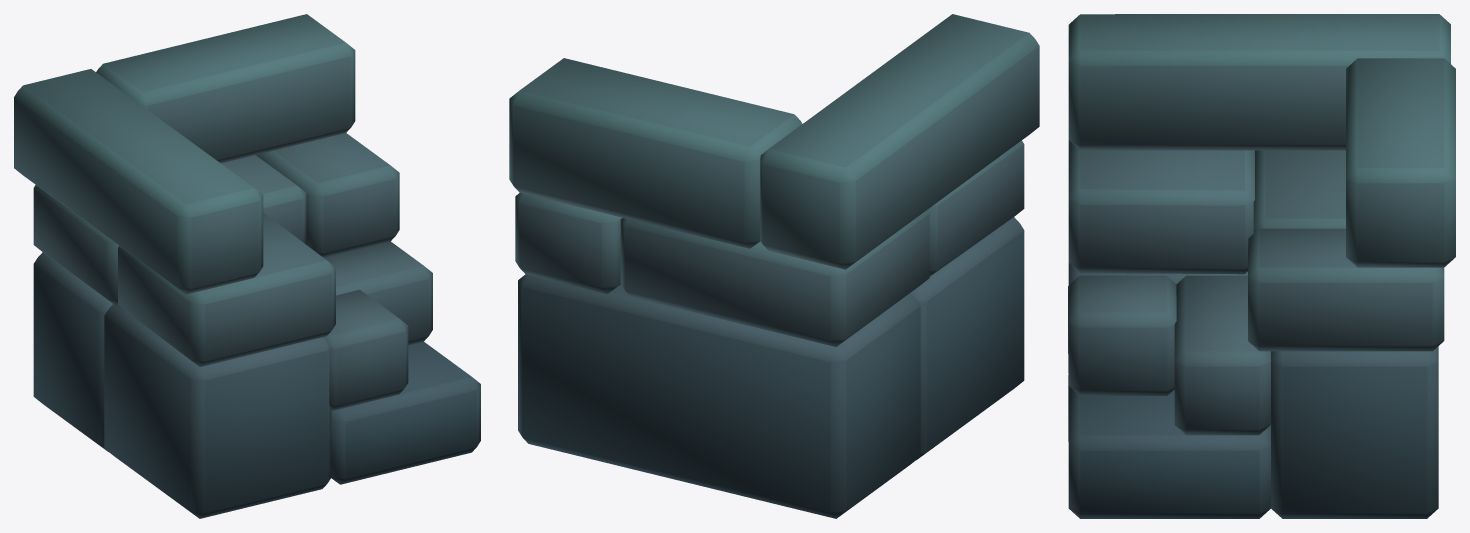
File: stair_corner_concave.fbx
3 views of the same model, side by side, from view 1: azimuth 30°, elevation 25°; view 2: azimuth 150°, elevation 25°; view 3: azimuth 270°, elevation 25° (orthographic). The views are drawn at different scales.
Visible parts, largest first — view 1: stair_corner_concave; view 2: stair_corner_concave; view 3: stair_corner_concave.
Boxes of the visible parts, x1,y1,x2,y2 form: stair_corner_concave: (14,14,480,518); stair_corner_concave: (509,14,1039,518); stair_corner_concave: (1068,14,1455,518).
Bounding box in the file's own units: 105 × 105 × 105.
